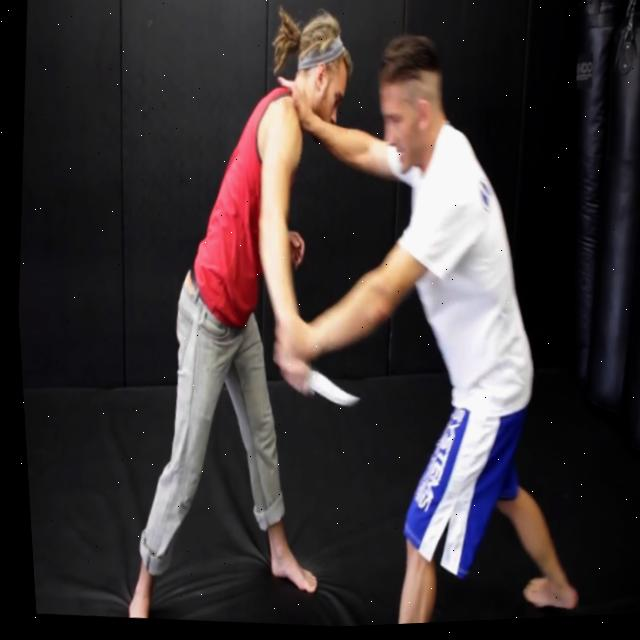knife: (302, 371, 358, 411)
